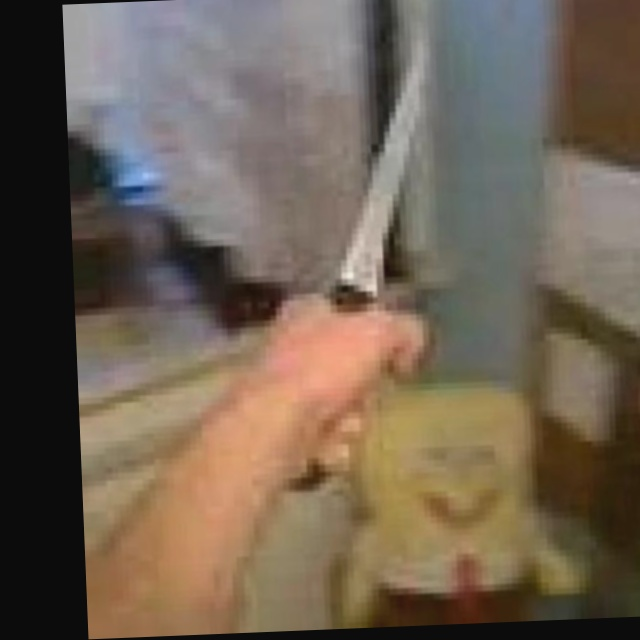Sharp-Object: (265, 45, 444, 499)
